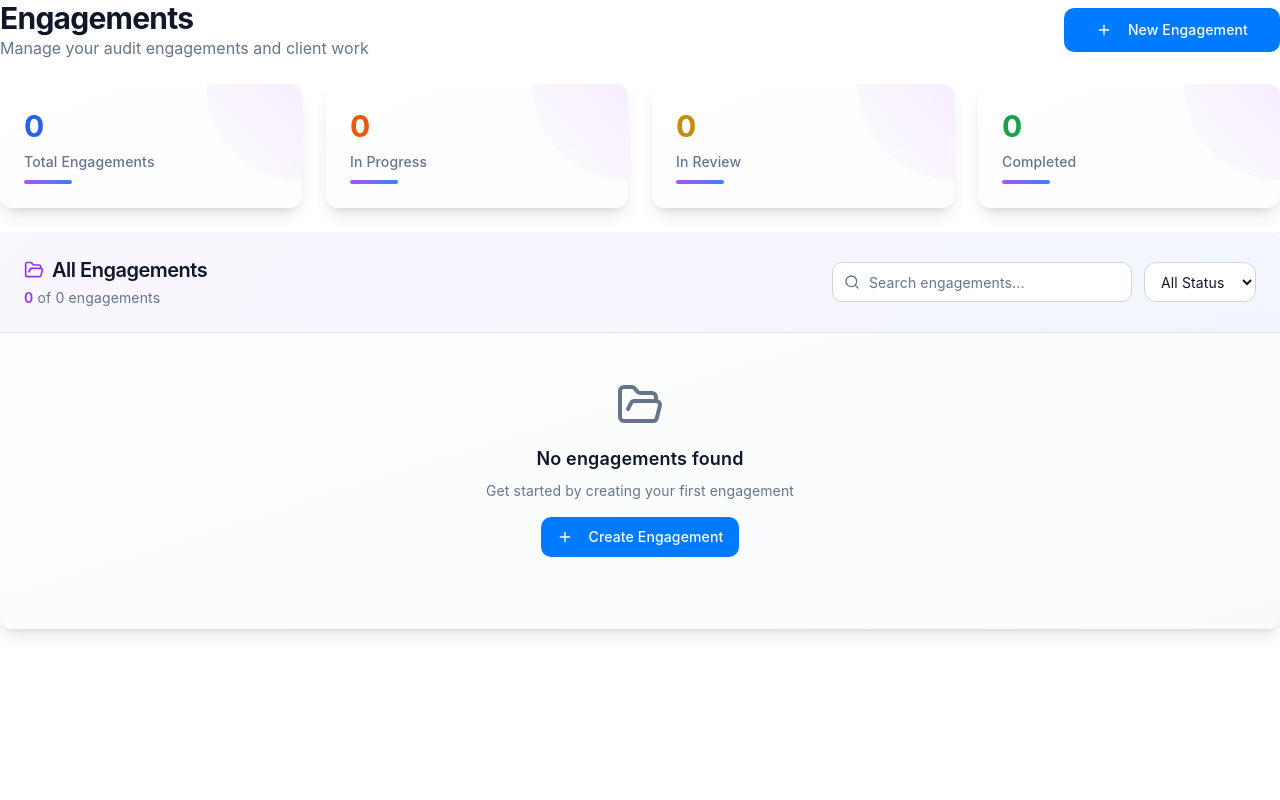
it: EngagementsPage › Create Engagement Dialog › should open create dialog when clicking new engagement button
Click the button "New Engagement" at (1172, 30), box [1064,8,1279,52]
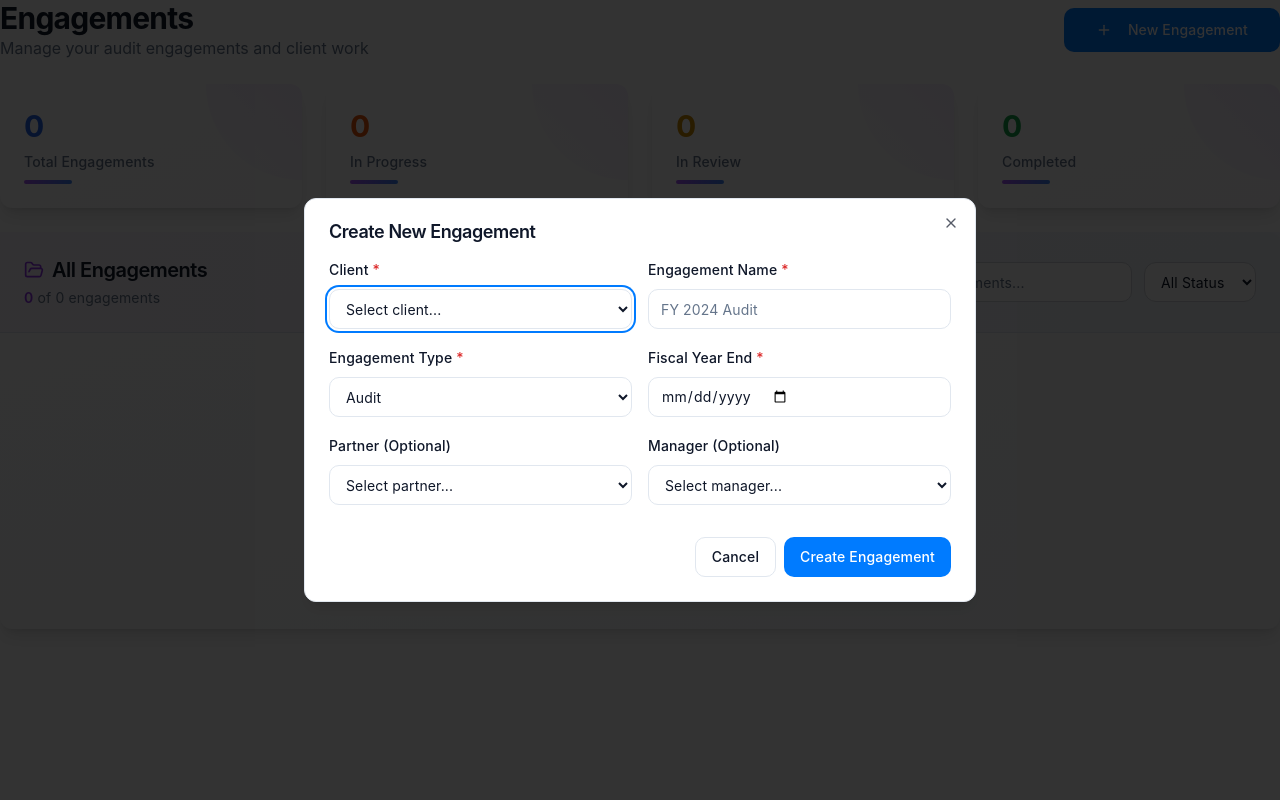
Result: the heading "Create New Engagement" is shown at [329,221,535,242]
